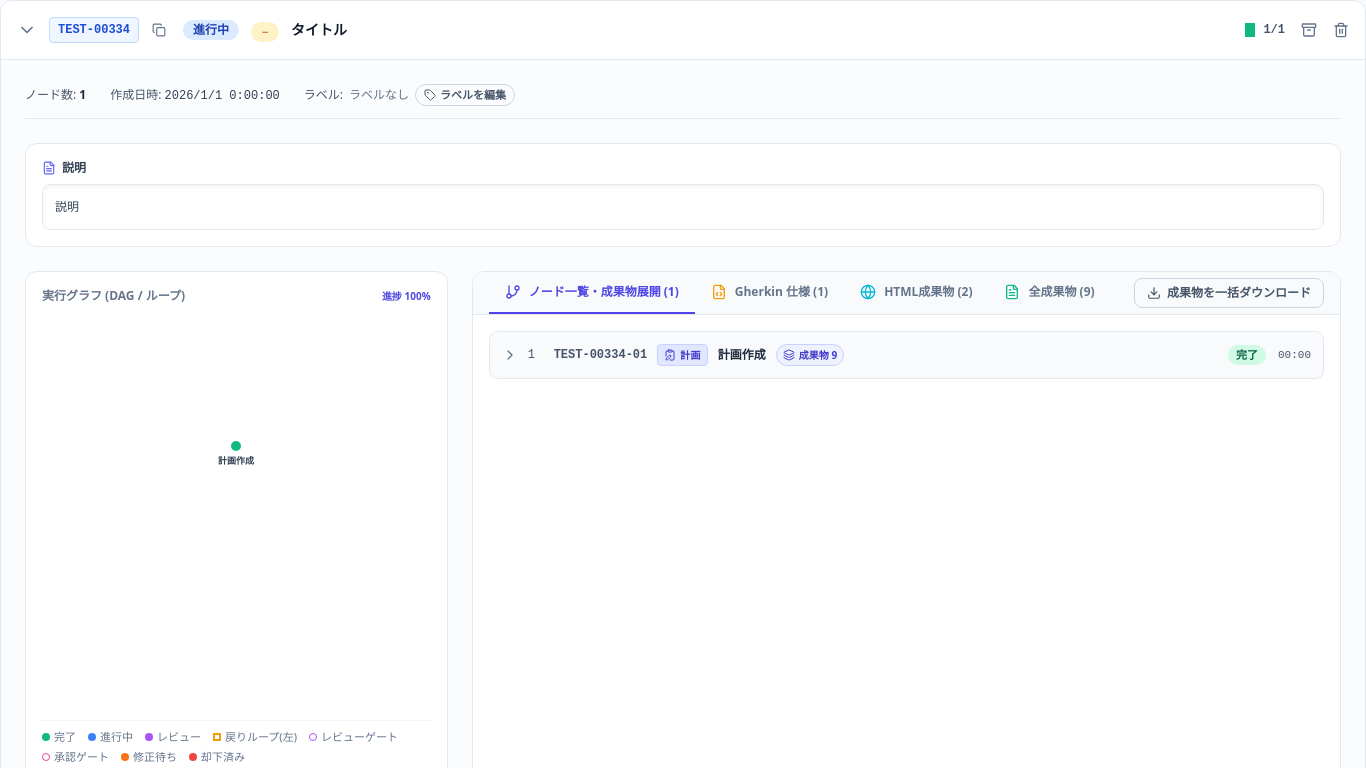
Test: DFLT-00334 the Download link may shrink to its row › in the Artifacts tab
The image size is (1366, 768).
Click the tab "全成果物 (9)".
click(1050, 292)  # box [988,272,1111,314]
(page scrolled)
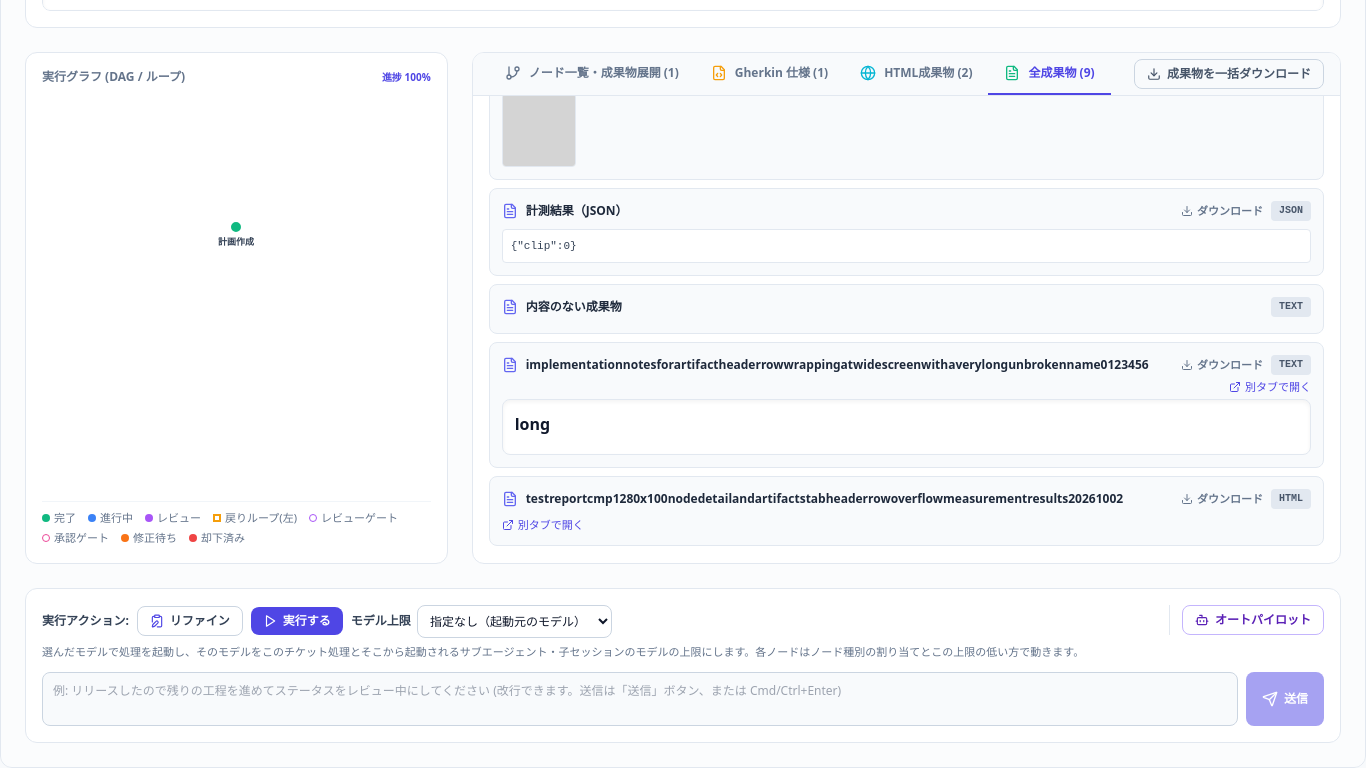
Expected: the link "ダウンロード" in the row of "計測結果（JSON）" is shown, [1181,203,1263,219]
Expected: the 2nd link "ダウンロード" is shown, [1181,357,1263,373]
Expected: the 3rd link "ダウンロード" is shown, [1181,491,1263,507]
